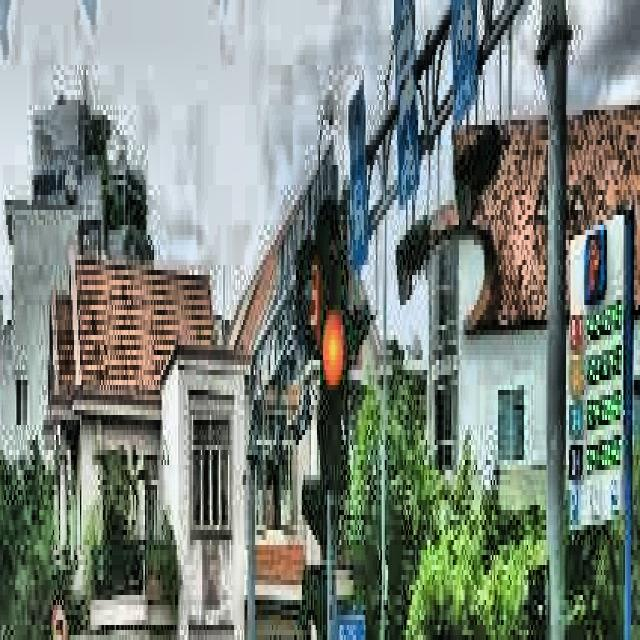yellow: (318, 208, 348, 490)
